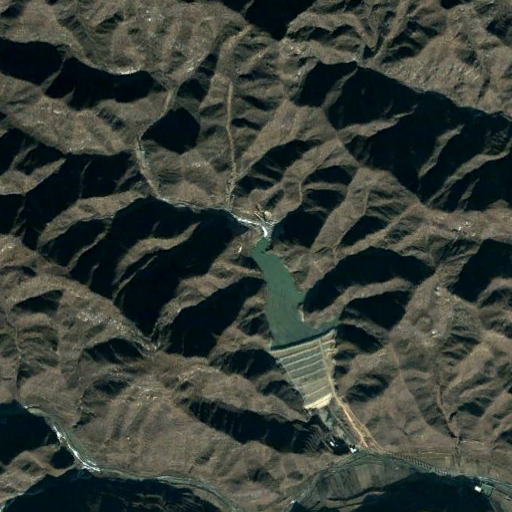tp: (252, 238, 334, 411)
